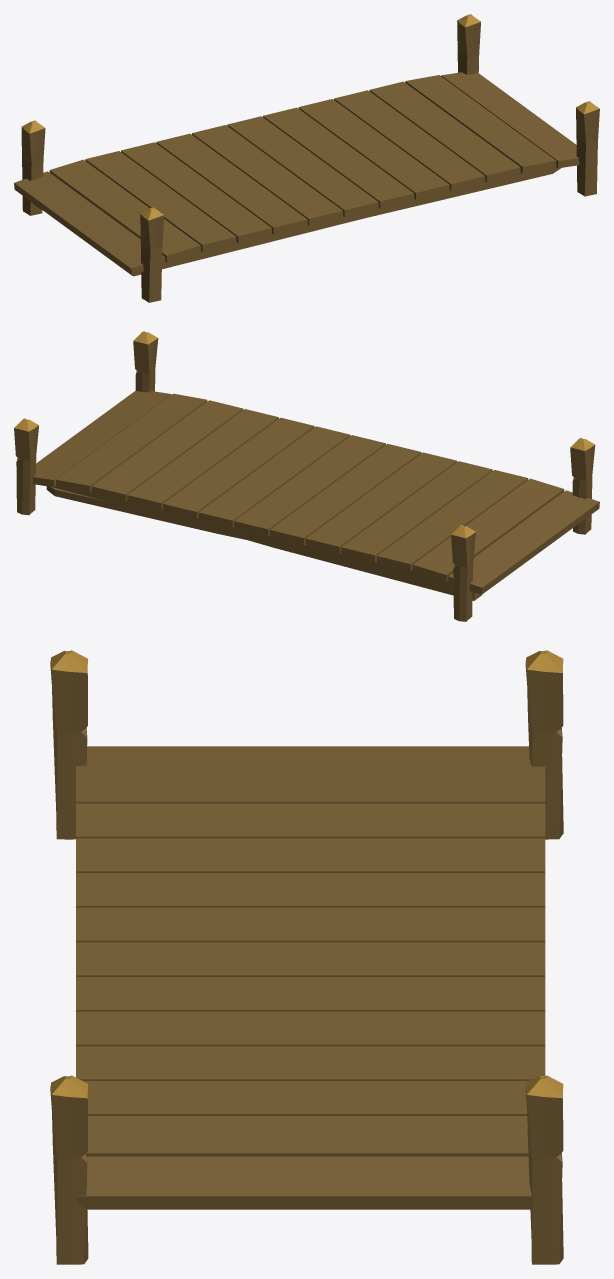
Rendered from bridge.glb.
The picture shows the model from 3 angles, top to bottom: view 1: azimuth 30°, elevation 25°; view 2: azimuth 150°, elevation 25°; view 3: azimuth 270°, elevation 25°; orthographic projection. The views are drawn at different scales.
Parts seen in each view (by area): view 1: Cube.011, Cube.018, Cube.020, Cube.015, Cube.017, Cube.019, Cube.021, Cube.014, Cube.016, Cube.013, Cube.022, Cube.012 (+6 smaller); view 2: Cube.011, Cube.025, Cube.018, Cube.015, Cube.021, Cube.017, Cube.016, Cube.014, Cube.019, Cube.020, Cube.013, Cube.022 (+6 smaller); view 3: Cube.023, Cube.022, Cube.013, Cube.016, Cube.019, Cube.014, Cube.015, Cube.017, Cube.018, Cube.020, Cube.021, Cube.012 (+5 smaller).
Boxes of the visible parts, left/top/right/bottom form: Cube.011: left=14, top=171, right=165, bottom=275; Cube.018: left=263, top=107, right=414, bottom=208; Cube.020: left=334, top=90, right=485, bottom=191; Cube.015: left=156, top=133, right=307, bottom=234; Cube.017: left=227, top=116, right=378, bottom=217; Cube.019: left=298, top=99, right=449, bottom=199; Cube.021: left=369, top=81, right=520, bottom=182; Cube.014: left=121, top=142, right=271, bottom=243; Cube.016: left=192, top=125, right=342, bottom=225; Cube.013: left=85, top=151, right=236, bottom=251; Cube.022: left=405, top=75, right=556, bottom=173; Cube.012: left=49, top=159, right=200, bottom=262; Cube.011: left=448, top=490, right=599, bottom=594; Cube.025: left=46, top=486, right=481, bottom=600; Cube.018: left=198, top=426, right=350, bottom=527; Cube.015: left=305, top=452, right=457, bottom=553; Cube.021: left=91, top=400, right=243, bottom=501; Cube.017: left=234, top=435, right=385, bottom=536; Cube.016: left=270, top=443, right=421, bottom=544; Cube.014: left=341, top=461, right=492, bottom=562; Cube.019: left=163, top=417, right=314, bottom=518; Cube.020: left=127, top=409, right=278, bottom=510; Cube.013: left=377, top=470, right=528, bottom=571; Cube.022: left=56, top=393, right=207, bottom=492; Cube.023: left=76, top=1156, right=531, bottom=1209; Cube.022: left=86, top=1116, right=528, bottom=1156; Cube.013: left=76, top=803, right=545, bottom=838; Cube.016: left=76, top=907, right=545, bottom=942; Cube.019: left=76, top=1011, right=545, bottom=1046; Cube.014: left=76, top=838, right=545, bottom=872; Cube.015: left=76, top=873, right=545, bottom=907; Cube.017: left=76, top=942, right=545, bottom=976; Cube.018: left=76, top=977, right=545, bottom=1011; Cube.020: left=76, top=1046, right=545, bottom=1080; Cube.021: left=83, top=1081, right=528, bottom=1115; Cube.012: left=76, top=773, right=545, bottom=803.
Bounding box in the file's own units: 13.67 × 2.58 × 6.57.
